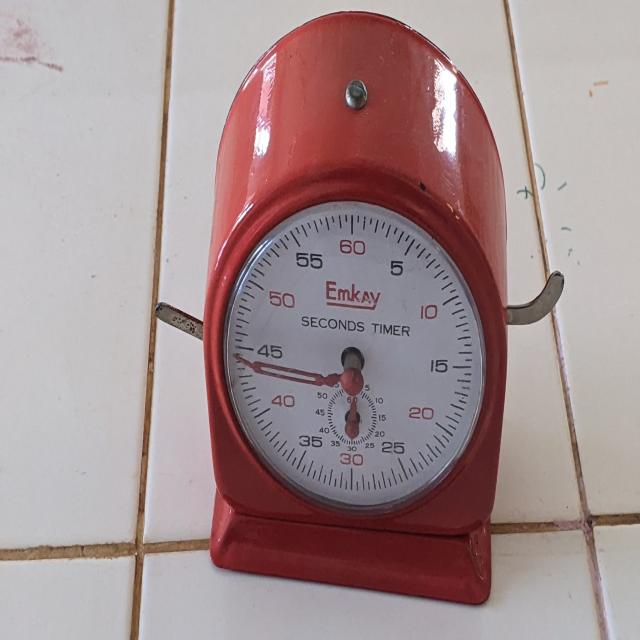Analog Stopwatch: (199, 2, 515, 625)
